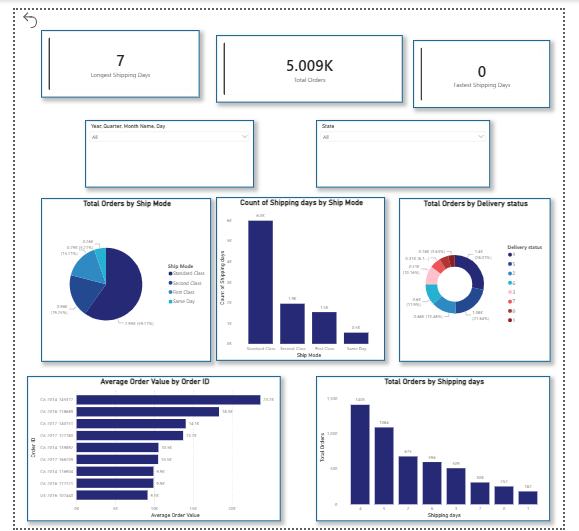

This screenshot's page, from the dashboard's own definition file:
{"tool":"powerbi","page":{"name":"Shipping Analysis","canvas":[1480,1400],"ordinal":3},"visuals":[{"type":"cardVisual","fields":{"Data":["_Measures.Fastest Shipping Days"]},"box":[1076.2,81,371.4,184.1],"z":0},{"type":"cardVisual","fields":{"Data":["_Measures.Longest Shipping Days"]},"box":[69.8,54,428.6,182.5],"z":1000},{"type":"pieChart","fields":{"Y":["_Measures.Total Orders"],"Category":["Fact_Sales.Ship Mode"]},"box":[69,507.1,459.5,442.9],"z":2000},{"type":"columnChart","fields":{"Y":["CountNonNull(Fact_Sales.Shipping days)"],"Category":["Fact_Sales.Ship Mode"]},"box":[544.4,506.3,457.1,442.9],"z":3000},{"type":"barChart","fields":{"Y":["_Measures.Average Order Value"],"Category":["Fact_Sales.Order ID"]},"box":[33.3,990.5,685.7,392.9],"z":4000},{"type":"columnChart","fields":{"Category":["Fact_Sales.Shipping days"],"Y":["_Measures.Total Orders"]},"box":[814.3,990.5,633.3,392.9],"z":5000},{"type":"donutChart","fields":{"Category":["Fact_Sales.Delivery status"],"Y":["_Measures.Total Orders"]},"box":[1038.1,507.1,409.5,442.9],"z":6000},{"type":"actionButton","box":[9.5,0,116.7,78.6],"z":7000},{"type":"slicer","fields":{"Values":["Dim_Date.Year","Dim_Date.Quarter","Dim_Date.Month Name","Dim_Date.Day"]},"box":[190.4,296.2,457.1,183.3],"z":8000},{"type":"slicer","fields":{"Values":["Fact_Sales.State"]},"box":[813.5,296.2,471.4,183.3],"z":9000},{"type":"cardVisual","fields":{"Data":["_Measures.Total Orders"]},"box":[544.4,68.3,504.8,182.5],"z":9001}]}

Visuals, with their boxes on the page's 1480x1400 design canvas (x1, y1, x2, y2). These are canvas units, not pixel positions in the 579x531 screenshot, which may show the page scaled, cropped or inside an application window:
cardVisual - _Measures.Fastest Shipping Days: x1=1076, y1=81, x2=1448, y2=265
cardVisual - _Measures.Longest Shipping Days: x1=70, y1=54, x2=498, y2=236
pieChart - _Measures.Total Orders x Fact_Sales.Ship Mode: x1=69, y1=507, x2=528, y2=950
columnChart - CountNonNull(Fact_Sales.Shipping days) x Fact_Sales.Ship Mode: x1=544, y1=506, x2=1002, y2=949
barChart - _Measures.Average Order Value x Fact_Sales.Order ID: x1=33, y1=990, x2=719, y2=1383
columnChart - Fact_Sales.Shipping days x _Measures.Total Orders: x1=814, y1=990, x2=1448, y2=1383
donutChart - Fact_Sales.Delivery status x _Measures.Total Orders: x1=1038, y1=507, x2=1448, y2=950
actionButton: x1=10, y1=0, x2=126, y2=79
slicer - Dim_Date.Year x Dim_Date.Quarter: x1=190, y1=296, x2=648, y2=480
slicer - Fact_Sales.State: x1=814, y1=296, x2=1285, y2=480
cardVisual - _Measures.Total Orders: x1=544, y1=68, x2=1049, y2=251
